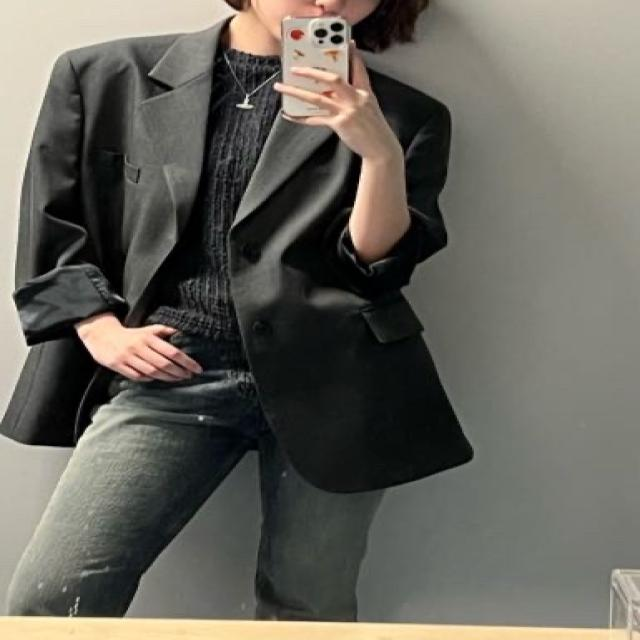blazer: (0, 13, 474, 492)
denimpants: (2, 346, 395, 618)
